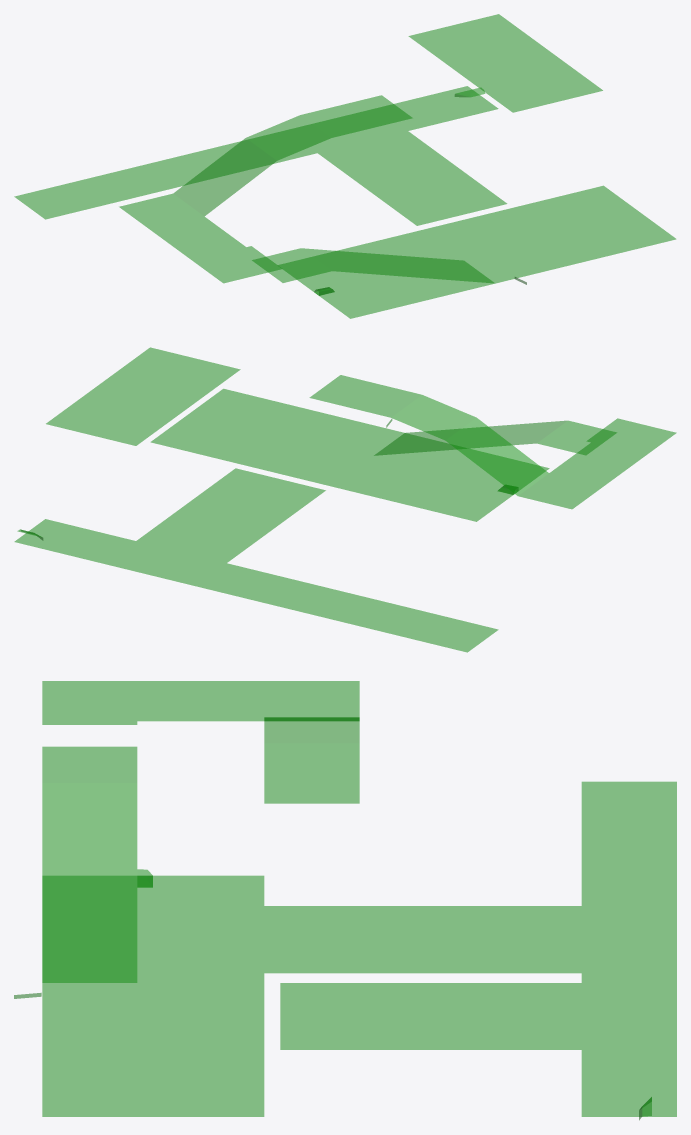
Rendered from road_A04.obj.
3 views of the same model, one above another, from view 1: azimuth 30°, elevation 25°; view 2: azimuth 150°, elevation 25°; view 3: azimuth 270°, elevation 25° (orthographic). The views are drawn at different scales.
Size of the model in its own units: 50.59 by 12 by 41.78.
